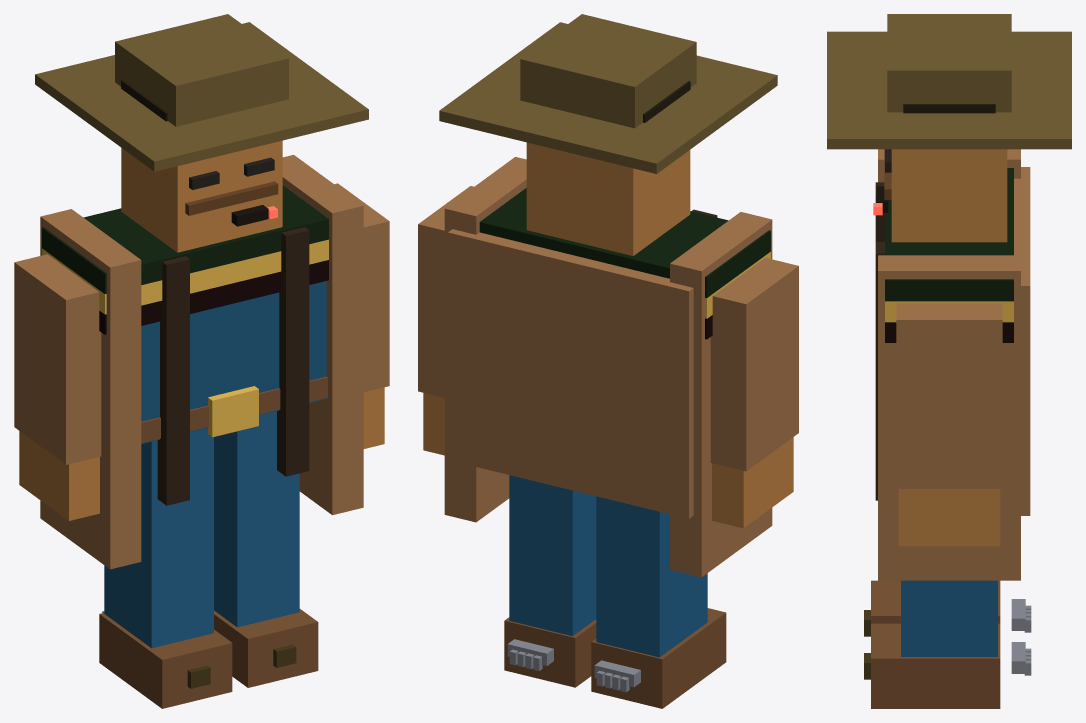
The model's file is archetypes__cowboy.glb.
3 views of the same model, side by side, from view 1: azimuth 30°, elevation 25°; view 2: azimuth 150°, elevation 25°; view 3: azimuth 270°, elevation 25° (orthographic). The views are drawn at different scales.
Parts seen in each view (by area): view 1: archetypes__cowboy, rig_legL, rig_legR, rig_armL, rig_armR; view 2: archetypes__cowboy, rig_armL, rig_legL, rig_legR, rig_armR; view 3: archetypes__cowboy, rig_armR, rig_legR, rig_legL.
Boxes of the visible parts, left/top/right/bottom form: archetypes__cowboy: left=35, top=14, right=368, bottom=569; rig_legL: left=99, top=428, right=232, bottom=708; rig_legR: left=214, top=411, right=318, bottom=687; rig_armL: left=14, top=254, right=101, bottom=520; rig_armR: left=334, top=183, right=389, bottom=448; archetypes__cowboy: left=439, top=14, right=777, bottom=577; rig_armL: left=710, top=257, right=798, bottom=528; rig_legL: left=591, top=496, right=726, bottom=708; rig_legR: left=504, top=475, right=596, bottom=687; rig_armR: left=418, top=186, right=473, bottom=455; archetypes__cowboy: left=827, top=14, right=1071, bottom=580; rig_armR: left=896, top=303, right=1002, bottom=546; rig_legR: left=864, top=580, right=1031, bottom=708; rig_legL: left=864, top=580, right=1031, bottom=636.
Bounding box in the file's own units: 1.66 × 3 × 1.06.
